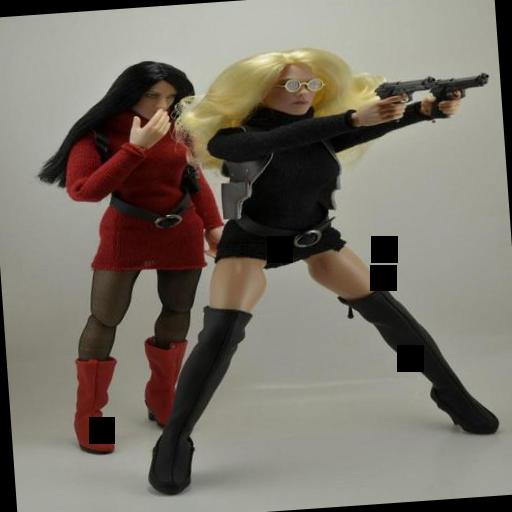Handgun: (367, 75, 436, 110), (424, 72, 490, 104)
